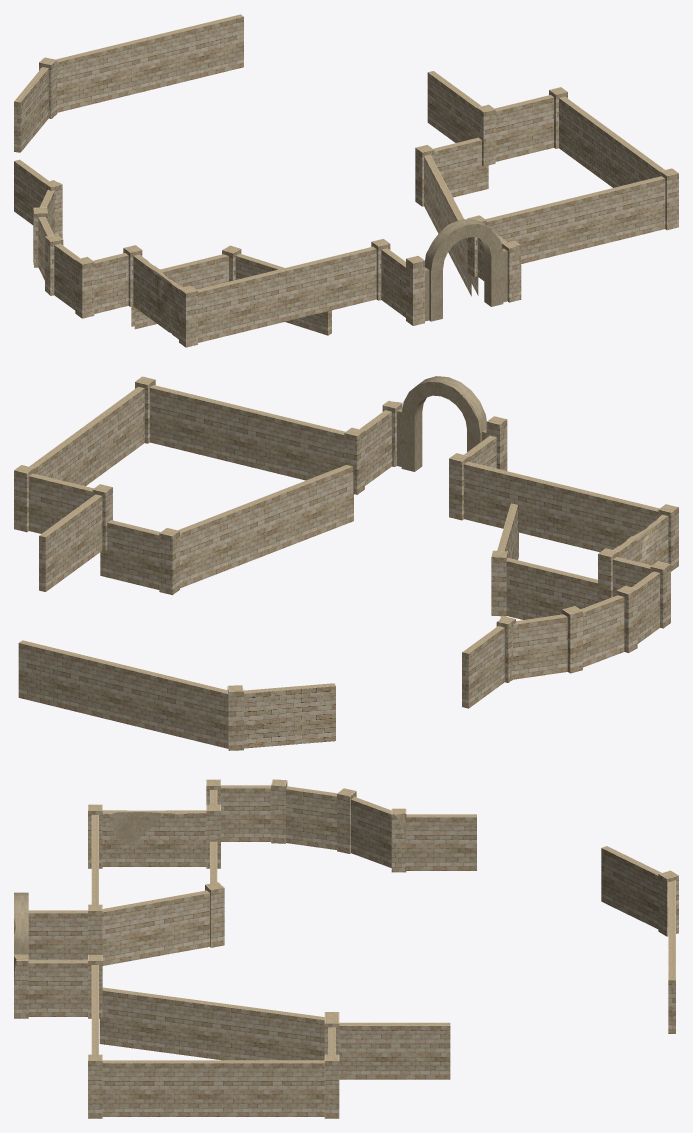
The model's file is poi_nboo_corral_64x64_s01_l0.fbx.
3 views of the same model, one above another, from view 1: azimuth 30°, elevation 25°; view 2: azimuth 150°, elevation 25°; view 3: azimuth 270°, elevation 25° (orthographic). The views are drawn at different scales.
Parts seen in each view (by area): view 1: mesh_node; view 2: mesh_node; view 3: mesh_node.
Boxes of the visible parts, x1,y1,x2,y2 form: mesh_node: [14, 14, 678, 347]; mesh_node: [14, 376, 678, 750]; mesh_node: [14, 779, 678, 1118].
Size of the model in its own units: 45.06 by 9 by 44.96.
